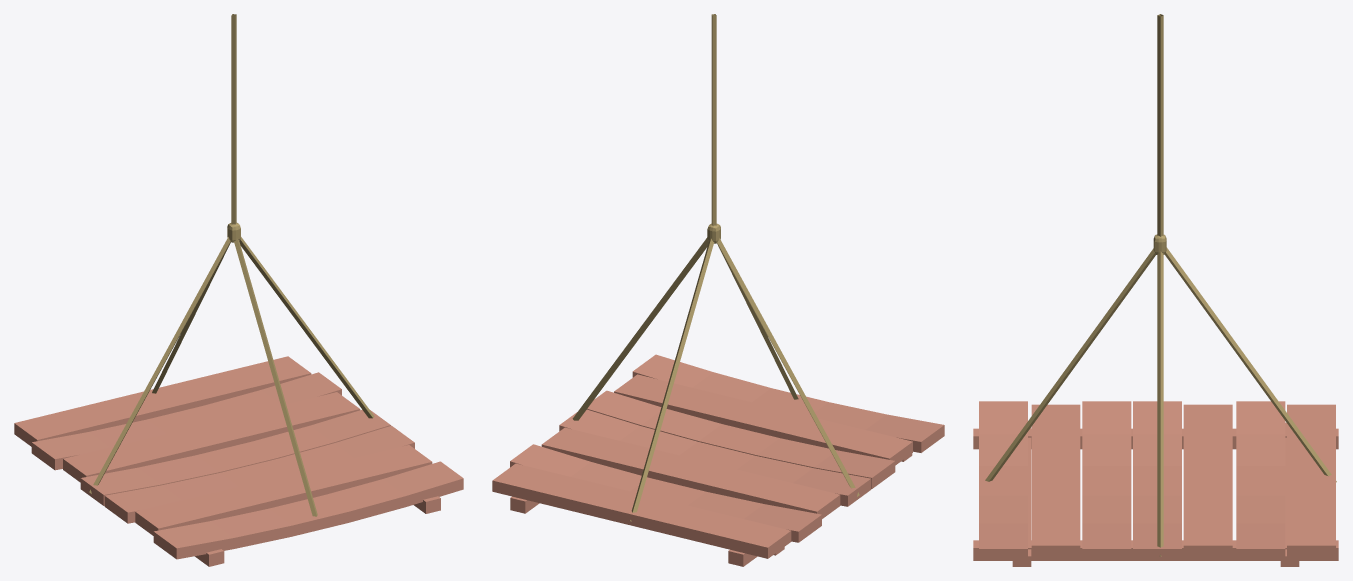
The model's file is Platrform.fbx.
3 renders of one model, left to right at view 1: azimuth 30°, elevation 25°; view 2: azimuth 150°, elevation 25°; view 3: azimuth 270°, elevation 25°, orthographic. The views are drawn at different scales.
Parts seen in each view (by area): view 1: Platform, Connect_Rope, Rope; view 2: Platform, Connect_Rope, Rope; view 3: Platform, Connect_Rope, Rope.
Part boxes in pixels (left/top/right/bottom): Platform: left=14, top=356, right=463, bottom=566; Connect_Rope: left=89, top=223, right=374, bottom=516; Rope: left=231, top=14, right=236, bottom=224; Platform: left=492, top=354, right=944, bottom=566; Connect_Rope: left=572, top=223, right=859, bottom=521; Rope: left=711, top=14, right=716, bottom=225; Platform: left=973, top=401, right=1338, bottom=566; Connect_Rope: left=985, top=234, right=1336, bottom=556; Rope: left=1157, top=14, right=1163, bottom=236.
Bounding box in the file's own units: 279 × 424 × 289.
